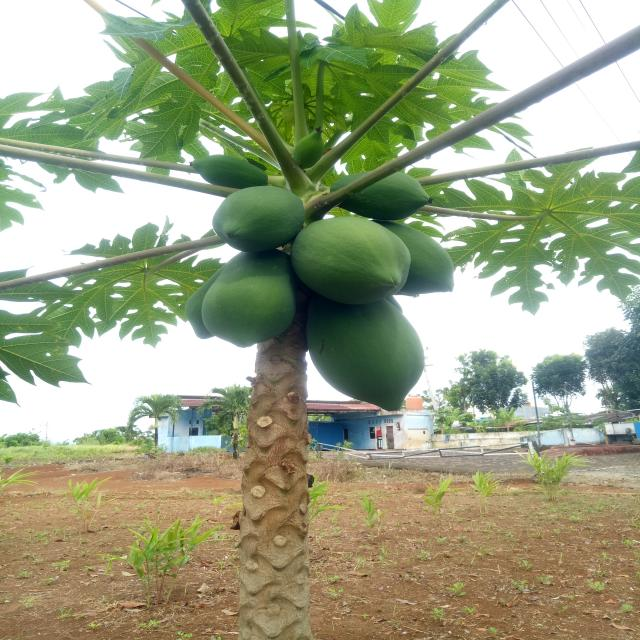Pepaya unrippen: (304, 304, 423, 418), (302, 220, 419, 310), (204, 256, 286, 346), (213, 182, 295, 254), (339, 167, 427, 217)
